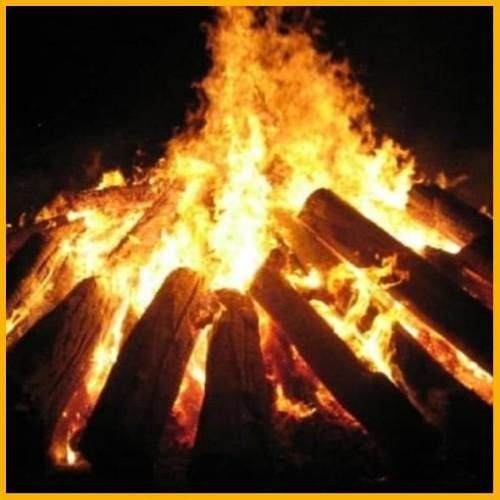fire: (43, 7, 439, 335)
